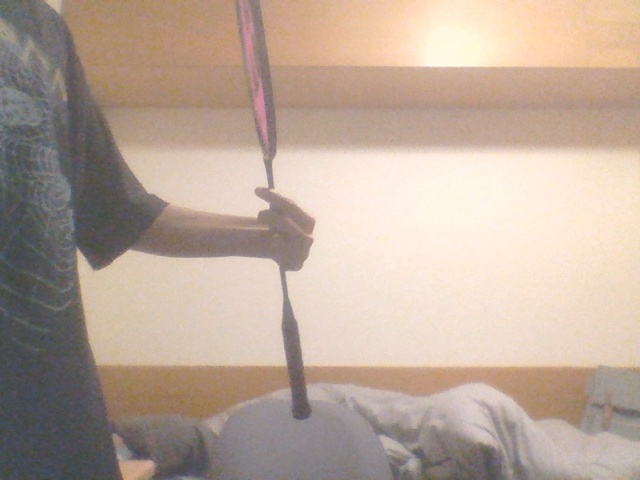human: (1, 1, 316, 480)
racket: (233, 1, 314, 420)
